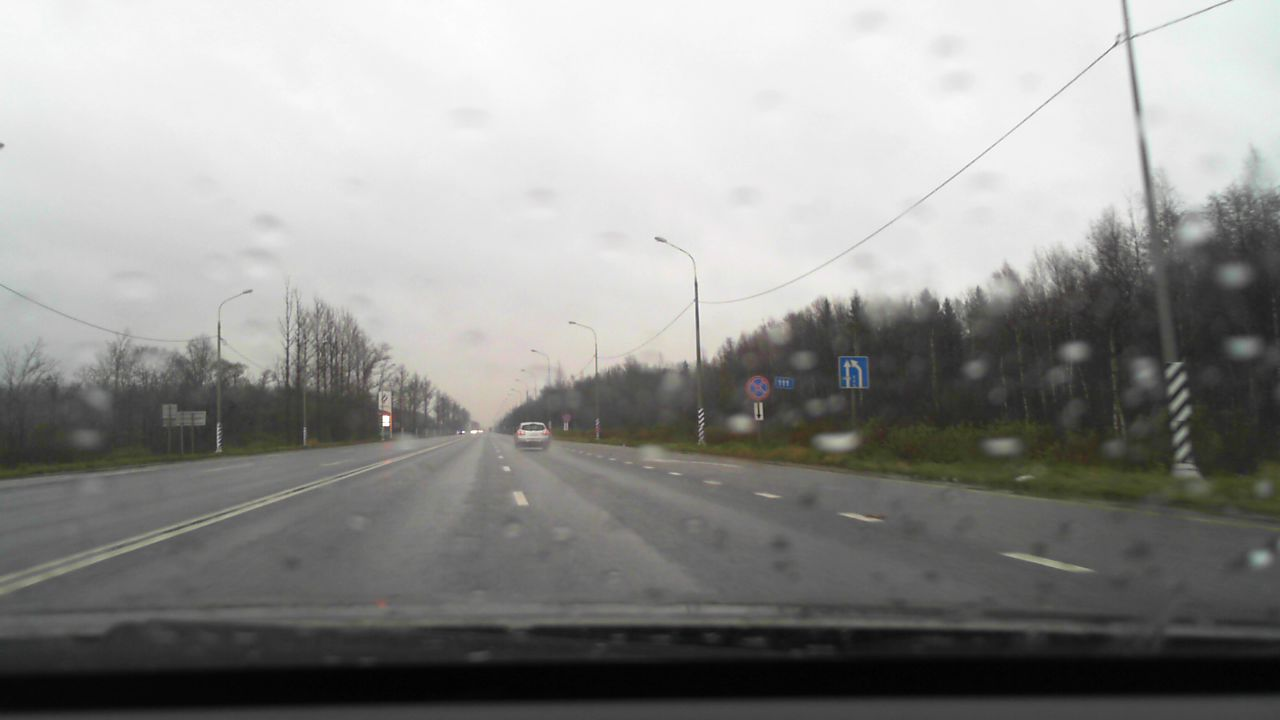No Parking: (745, 375, 769, 400)
